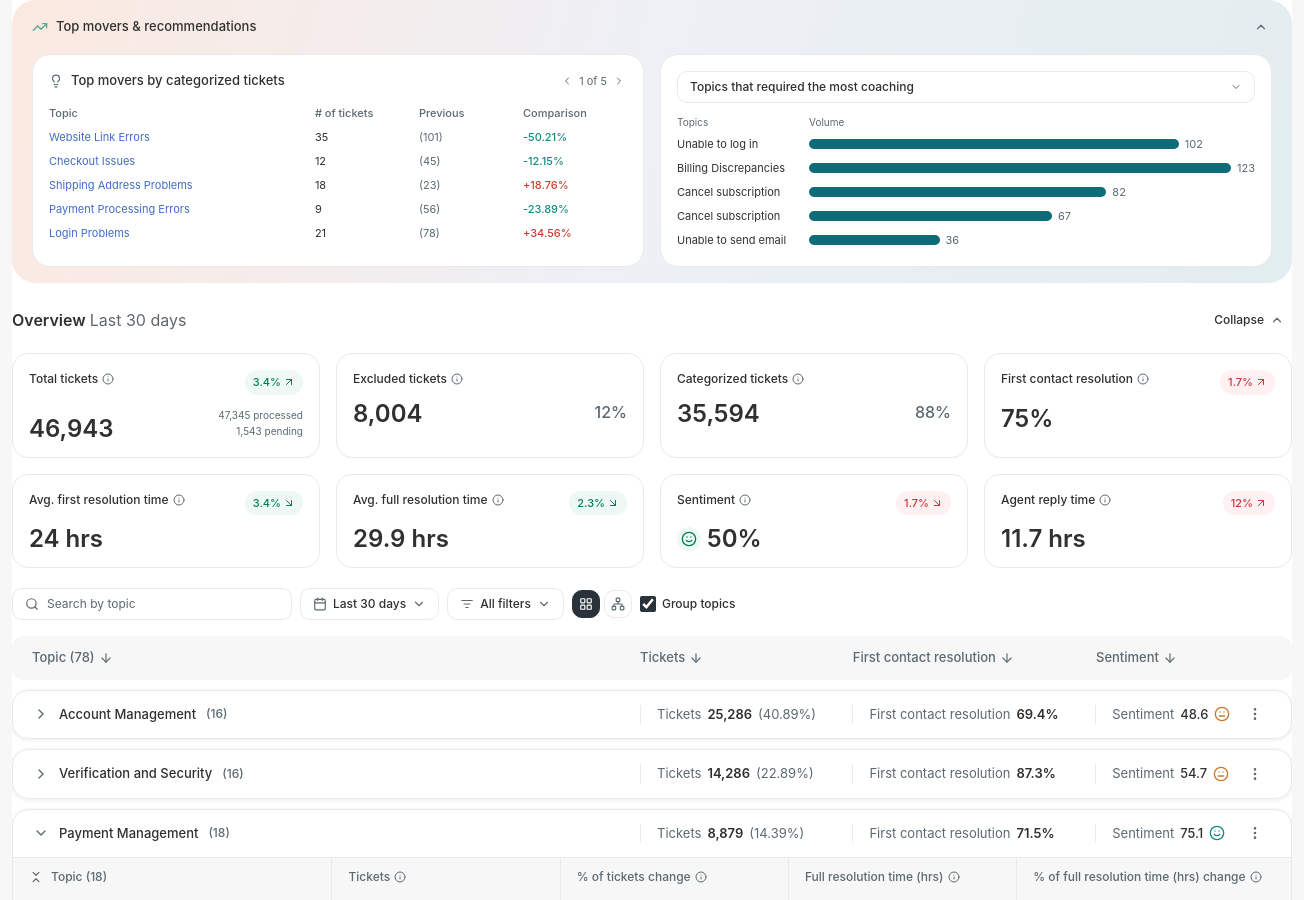
Test: TopicsView › collapses the top-movers panel
The image size is (1304, 900).
Expected: the text "Top movers by categorized tickets" is shown, [71,71,285,90]
Click the button named "Toggle top movers" at (1261, 27), box [1250,16,1272,38]
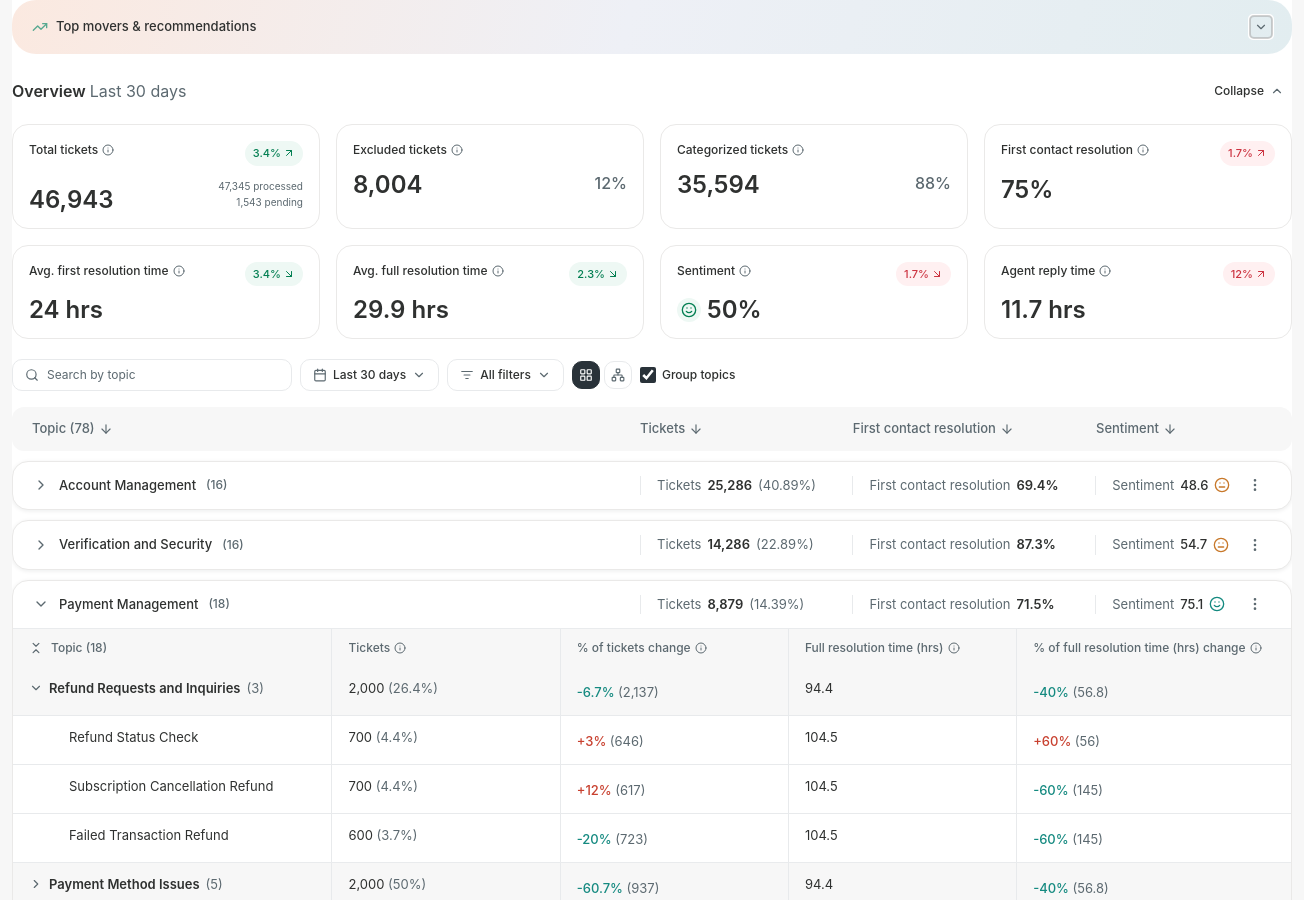
Result: the text "Top movers by categorized tickets" is gone
